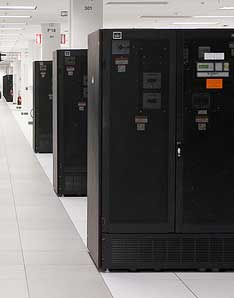ibm-server: (85, 26, 183, 275)
